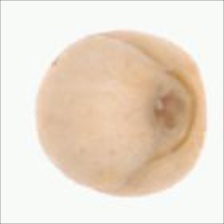L3: (153, 69, 196, 159)
L4: (35, 31, 208, 198)
